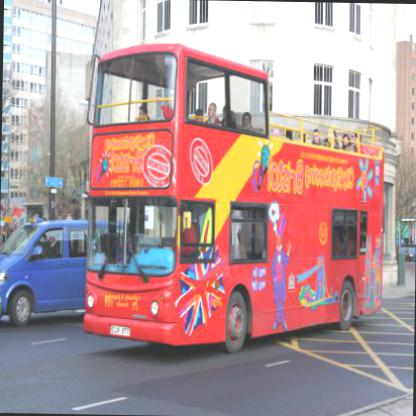bus: (81, 38, 388, 361)
